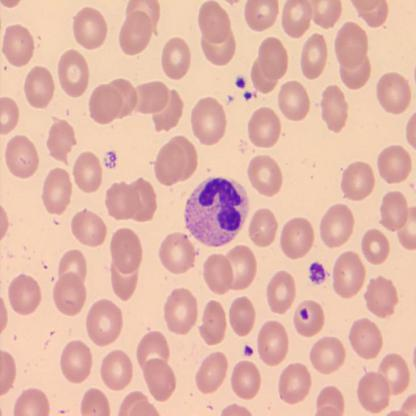Segmented neutrophil: (183, 173, 252, 250)
